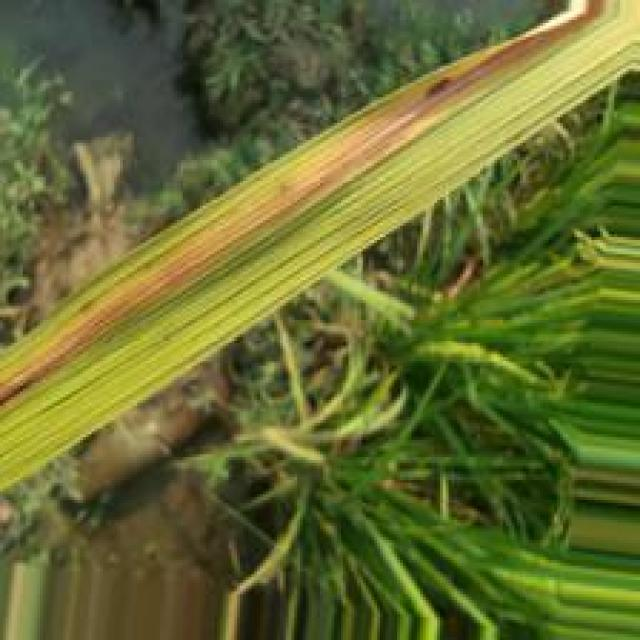Leaf_Blast: (0, 14, 595, 410)
